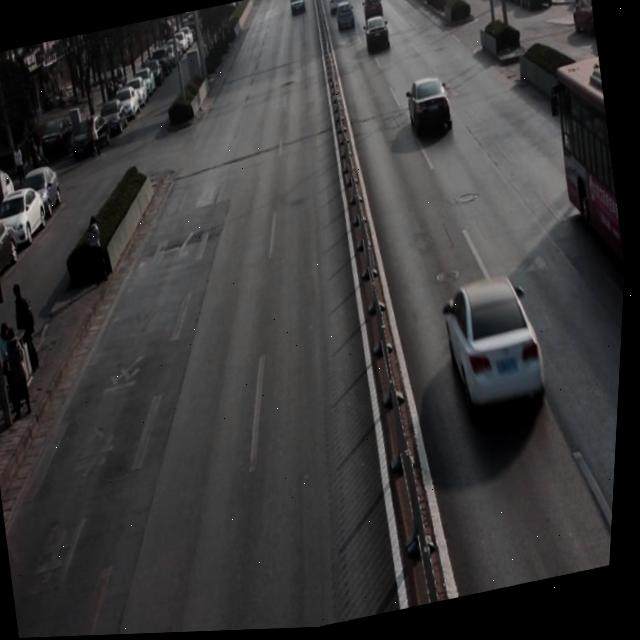car: (439, 276, 559, 431), (402, 78, 459, 143), (361, 17, 393, 57), (334, 2, 357, 36), (361, 0, 386, 23)
van: (541, 59, 637, 335)
